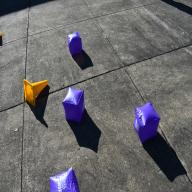cone: (24, 79, 48, 107), (0, 32, 2, 36)
cube: (133, 102, 161, 144), (62, 87, 85, 123), (50, 166, 80, 192), (68, 31, 82, 56)
